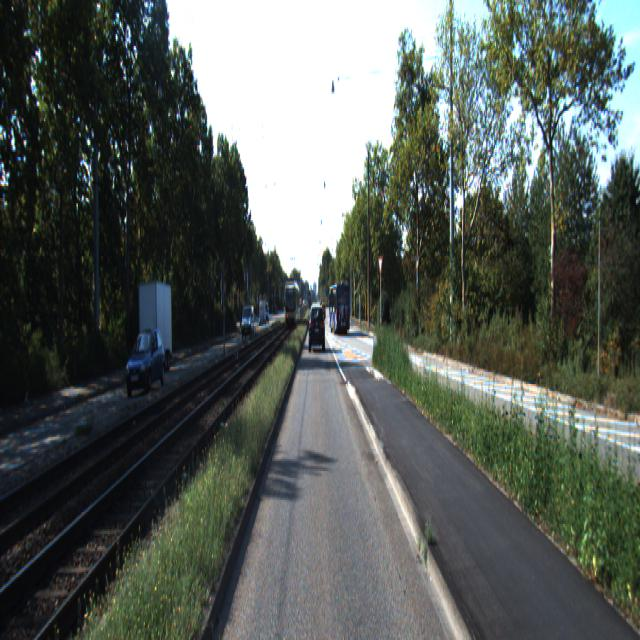Car: (138, 280, 173, 375), (124, 325, 166, 395), (328, 282, 351, 334), (309, 303, 324, 351), (241, 306, 255, 340)
